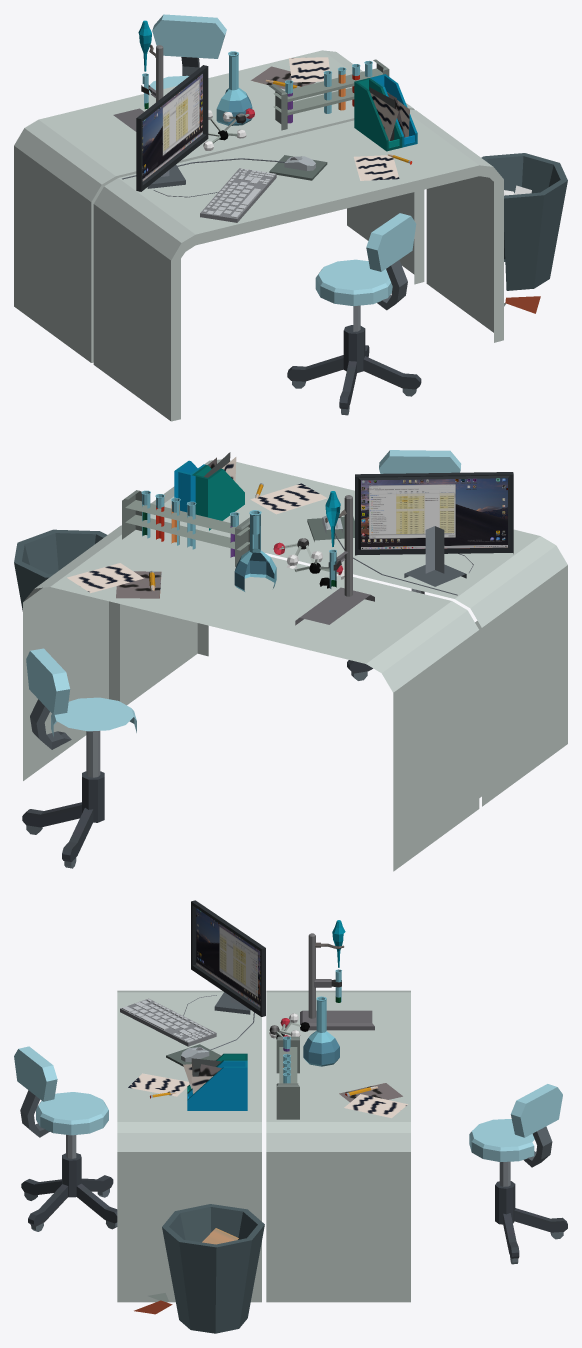
File: Desks.glb
3 renders of one model, top to bottom at view 1: azimuth 30°, elevation 25°; view 2: azimuth 150°, elevation 25°; view 3: azimuth 270°, elevation 25°, orthographic. The views are drawn at different scales.
Visible parts, largest first — view 1: table1, table2, basket, screen, seat1, back2, support1, back1, folder_for_paper2, staff2, buttons, board (+10 smaller); view 2: table2, table1, screen, basket, seat2, staff2, folder_for_paper2, back2, back1, support2, rack, large_flask (+11 smaller); view 3: table2, table1, basket, screen, seat1, folder_for_paper1, support1, seat2, back2, back1, large_flask, buttons (+12 smaller).
Boxes of the visible parts, bbox=[...] form: table1: bbox=[93, 109, 503, 421]; table2: bbox=[14, 50, 424, 362]; basket: bbox=[481, 153, 567, 290]; screen: bbox=[136, 65, 208, 191]; seat1: bbox=[315, 259, 392, 306]; back2: bbox=[152, 14, 226, 58]; support1: bbox=[287, 345, 421, 409]; back1: bbox=[366, 213, 416, 271]; folder_for_paper2: bbox=[354, 78, 402, 151]; staff2: bbox=[273, 68, 382, 115]; buttons: bbox=[203, 168, 275, 218]; board: bbox=[200, 168, 276, 222]; table2: bbox=[23, 525, 479, 871]; table1: bbox=[120, 459, 567, 806]; screen: bbox=[355, 472, 513, 555]; basket: bbox=[14, 529, 107, 611]; seat2: bbox=[51, 697, 136, 736]; staff2: bbox=[125, 500, 249, 550]; folder_for_paper2: bbox=[192, 465, 244, 530]; back2: bbox=[26, 648, 70, 714]; back1: bbox=[379, 450, 461, 473]; support2: bbox=[22, 802, 93, 861]; rack: bbox=[404, 526, 466, 586]; large_flask: bbox=[234, 510, 276, 591]; table2: bbox=[266, 990, 410, 1302]; table1: bbox=[117, 990, 261, 1302]; basket: bbox=[162, 1204, 264, 1333]; screen: bbox=[191, 900, 265, 1016]; seat1: bbox=[36, 1092, 108, 1135]; folder_for_paper1: bbox=[187, 1060, 247, 1110]; support1: bbox=[21, 1175, 117, 1226]; seat2: bbox=[469, 1119, 534, 1161]; back2: bbox=[510, 1084, 562, 1137]; back1: bbox=[14, 1046, 57, 1101]; large_flask: bbox=[303, 996, 339, 1066]; buttons: bbox=[122, 999, 214, 1042].
Bounding box in the file's own units: 0.924 × 0.5811 × 1.07.
Materials: 1 (1 with a texture image).
